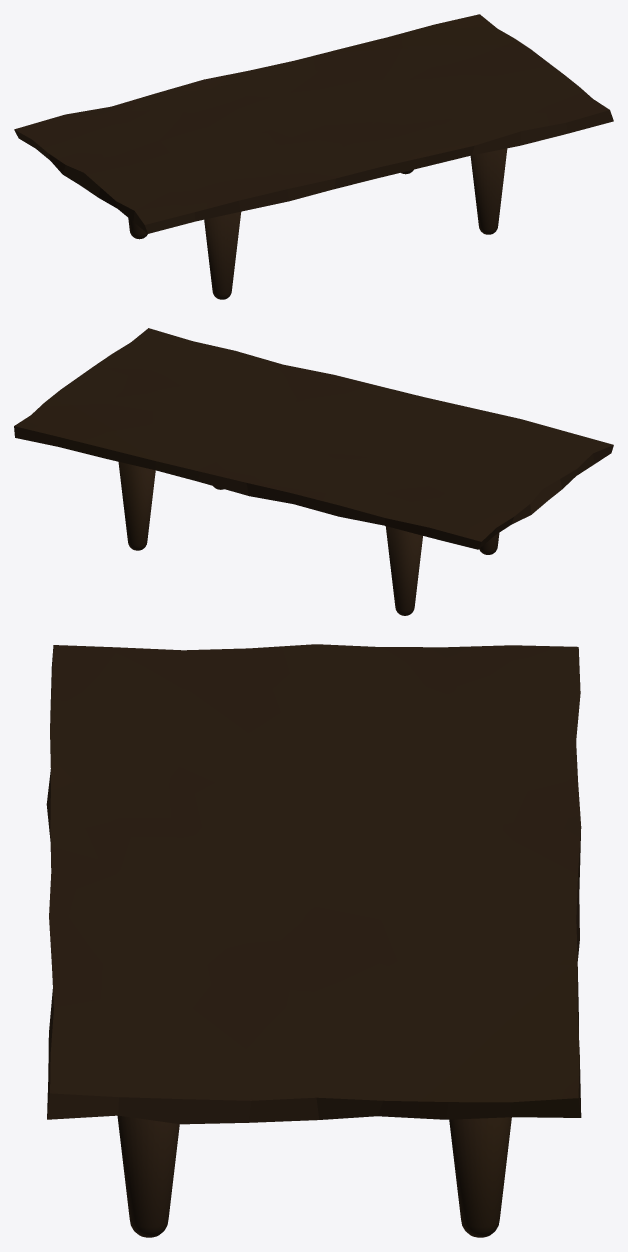
Rendered from TableB_empty.fbx.
The picture shows the model from 3 angles, top to bottom: view 1: azimuth 30°, elevation 25°; view 2: azimuth 150°, elevation 25°; view 3: azimuth 270°, elevation 25°; orthographic projection. The views are drawn at different scales.
Parts seen in each view (by area): view 1: TableB; view 2: TableB; view 3: TableB.
Part boxes in pixels (box(x1,y1,x2,y2)): TableB: box(14, 14, 613, 299); TableB: box(14, 328, 613, 615); TableB: box(46, 644, 581, 1237).
Size of the model in its own units: 314 by 76.07 by 155.
Materials: 1 (1 with a texture image).
